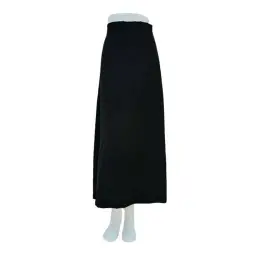rok_benar: (91, 24, 166, 198)
